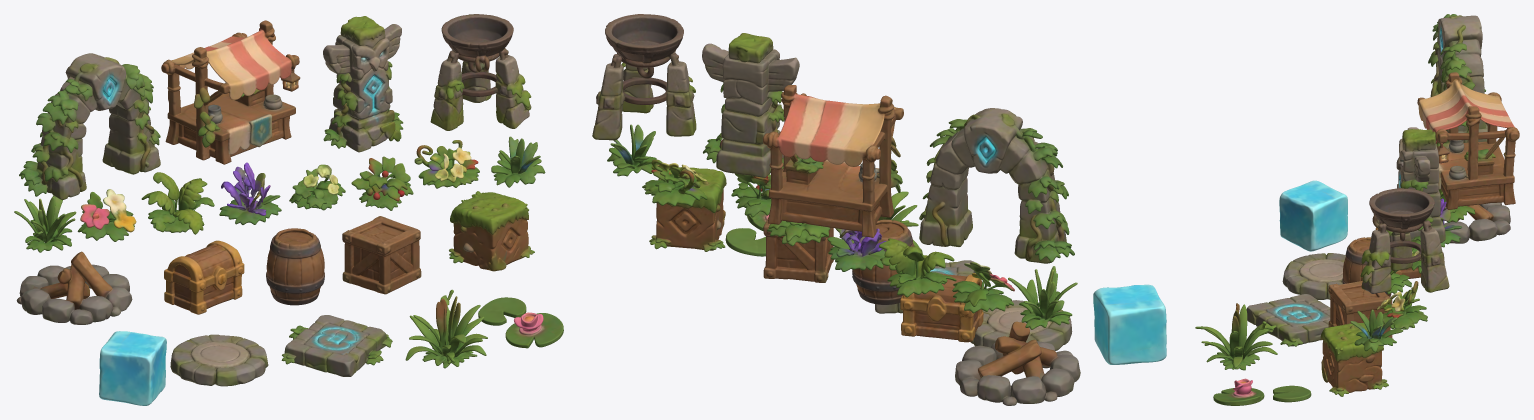
File: fantasy+garden+props+3d+model.glb
The picture shows the model from 3 angles, left to right: view 1: azimuth 30°, elevation 25°; view 2: azimuth 150°, elevation 25°; view 3: azimuth 270°, elevation 25°; orthographic projection. The views are drawn at different scales.
Parts seen in each view (by area): view 1: tripo_node_24c16d06-b0ee-4fd1-8331-cab613cee743; view 2: tripo_node_24c16d06-b0ee-4fd1-8331-cab613cee743; view 3: tripo_node_24c16d06-b0ee-4fd1-8331-cab613cee743.
Boxes of the visible parts, x1,y1,x2,y2 form: tripo_node_24c16d06-b0ee-4fd1-8331-cab613cee743: (14,14,563,405); tripo_node_24c16d06-b0ee-4fd1-8331-cab613cee743: (592,14,1166,405); tripo_node_24c16d06-b0ee-4fd1-8331-cab613cee743: (1195,14,1519,405).
Size of the model in its own units: 1 by 0.5353 by 0.6495.
Materials: 1 (1 with a texture image).
